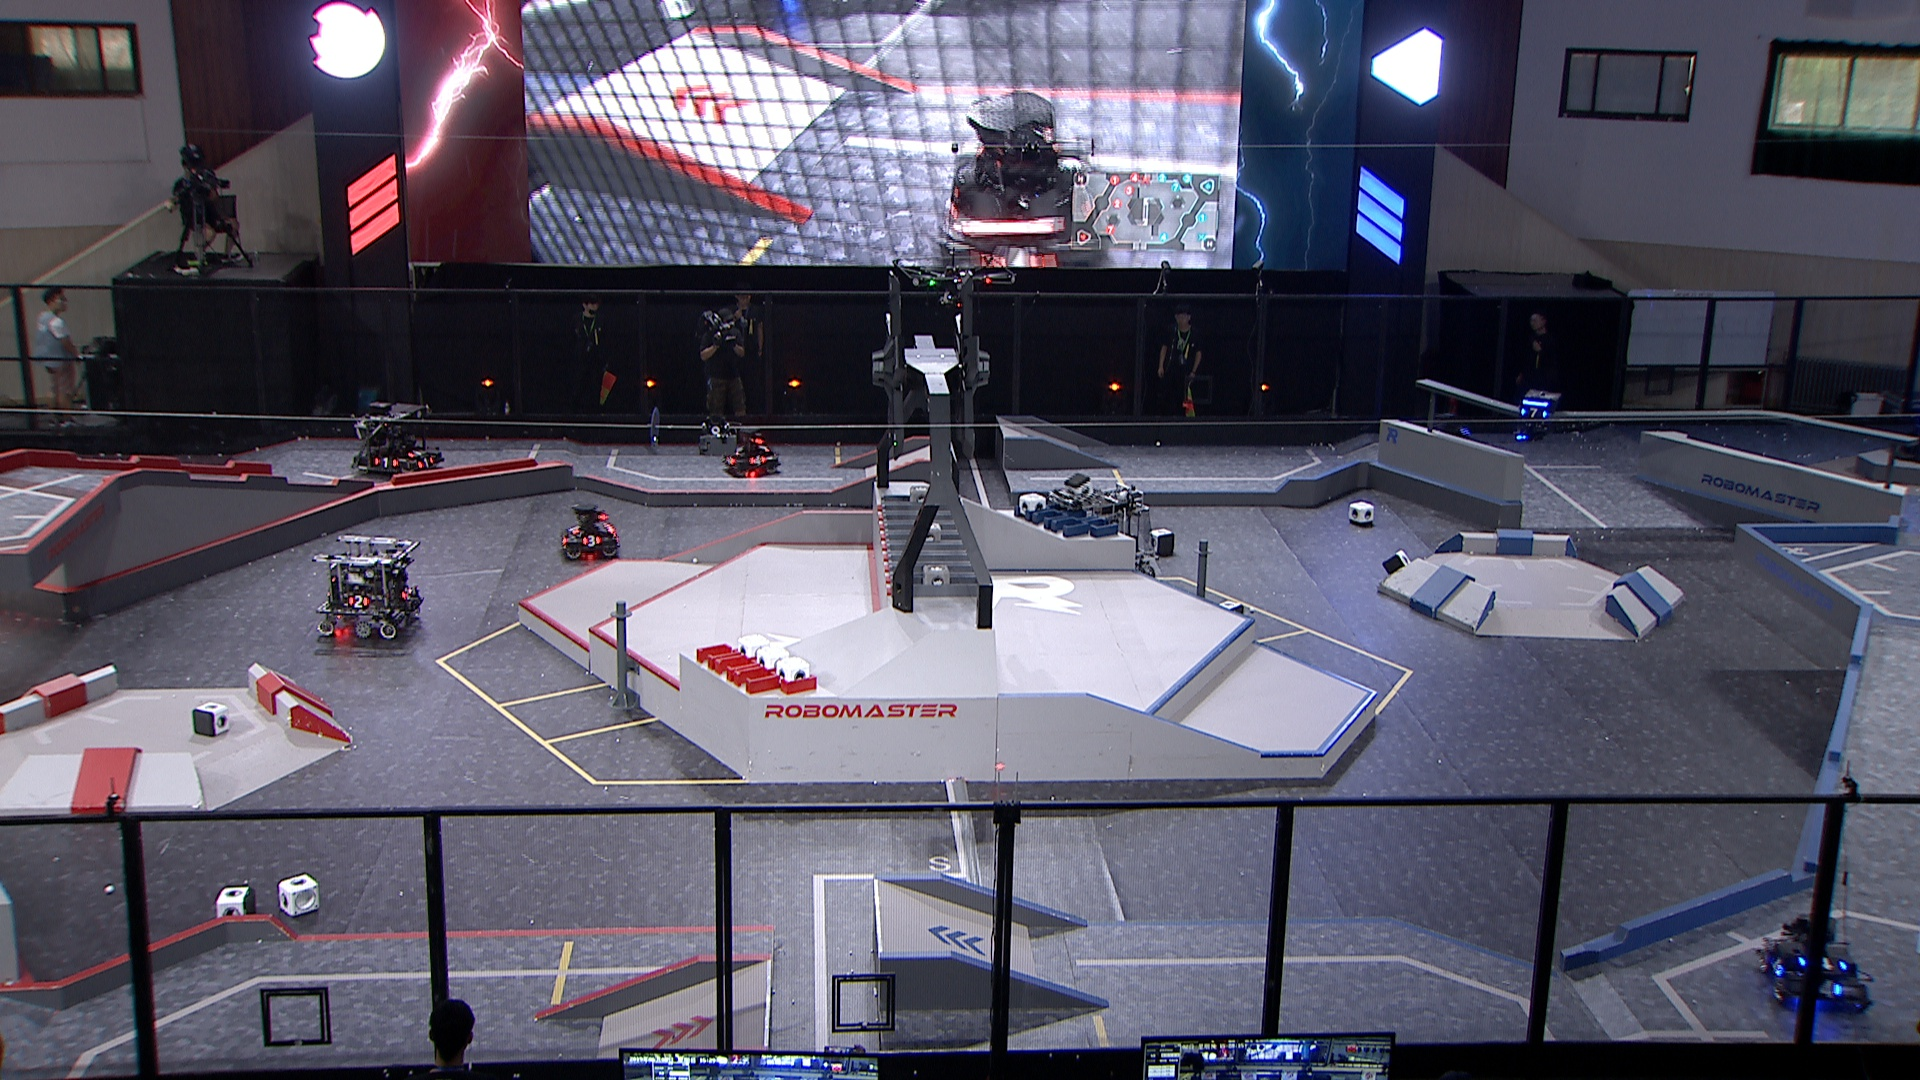armor: (1797, 951, 1850, 977), (1812, 973, 1846, 1004), (1519, 401, 1552, 425), (1764, 953, 1789, 982), (371, 454, 401, 472), (400, 443, 429, 460), (343, 593, 371, 611), (580, 533, 604, 550), (415, 452, 436, 469), (400, 584, 415, 604), (746, 452, 767, 467), (723, 451, 740, 467), (567, 520, 583, 535), (756, 440, 773, 454)
car: (313, 526, 429, 644), (1754, 915, 1879, 1021), (1046, 481, 1162, 595), (349, 400, 440, 479), (560, 504, 622, 560), (717, 423, 785, 475), (1410, 409, 1474, 458)
ignore: (945, 91, 1112, 272)
watcher: (1513, 386, 1557, 444)
